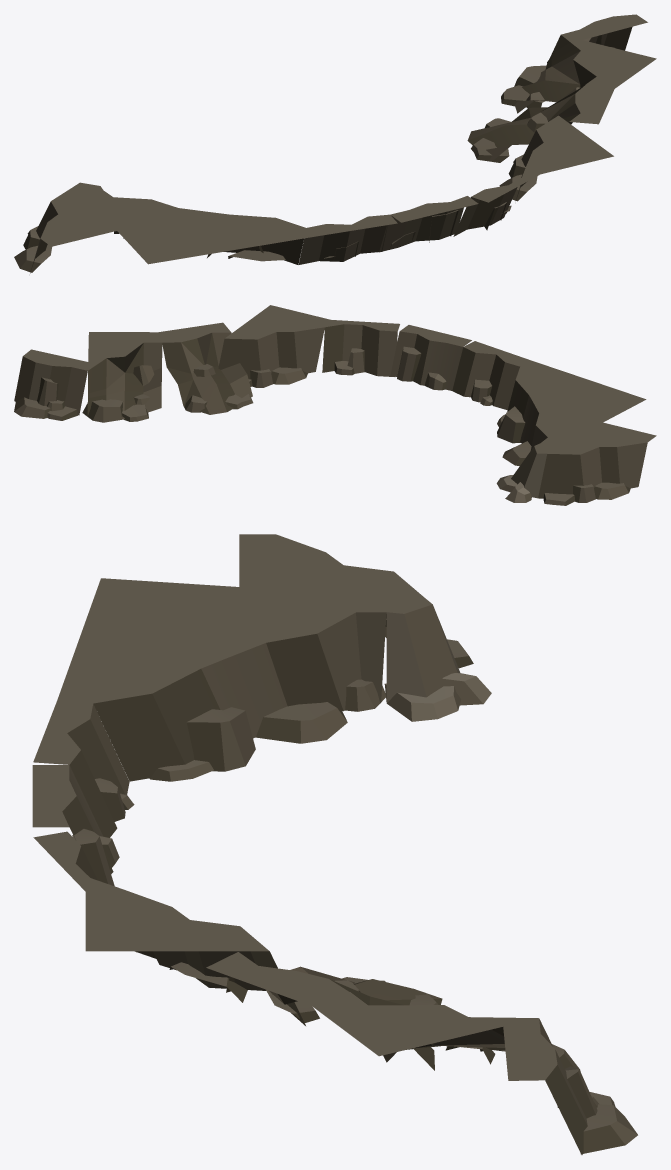
File: RocksUp.fbx
3 renders of one model, top to bottom at view 1: azimuth 30°, elevation 25°; view 2: azimuth 150°, elevation 25°; view 3: azimuth 270°, elevation 25°, orthographic. The views are drawn at different scales.
Parts seen in each view (by area): view 1: New Game Object; view 2: New Game Object; view 3: New Game Object.
Boxes of the visible parts, <box> form: New Game Object: <box>14,14,656,273</box>; New Game Object: <box>14,305,656,505</box>; New Game Object: <box>32,534,637,1154</box>.
Bounding box in the file's own units: 175 × 12.17 × 82.28.
